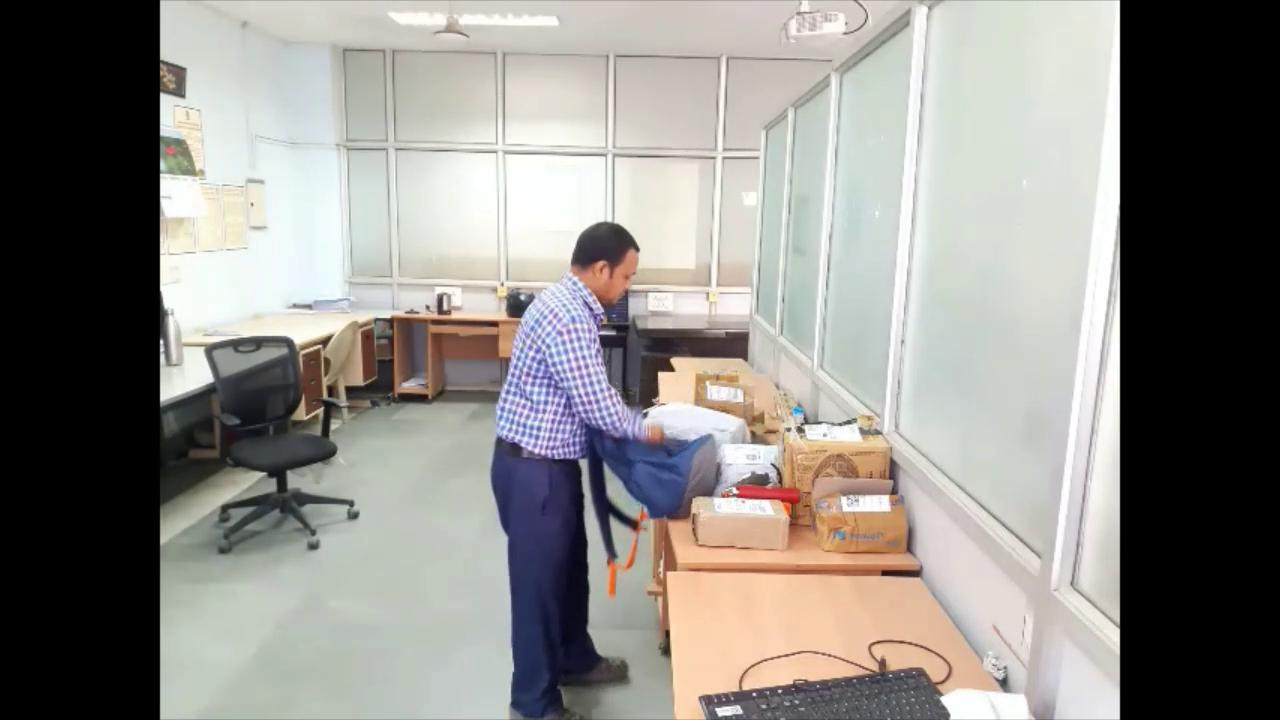shoplifting: (481, 187, 718, 720)
